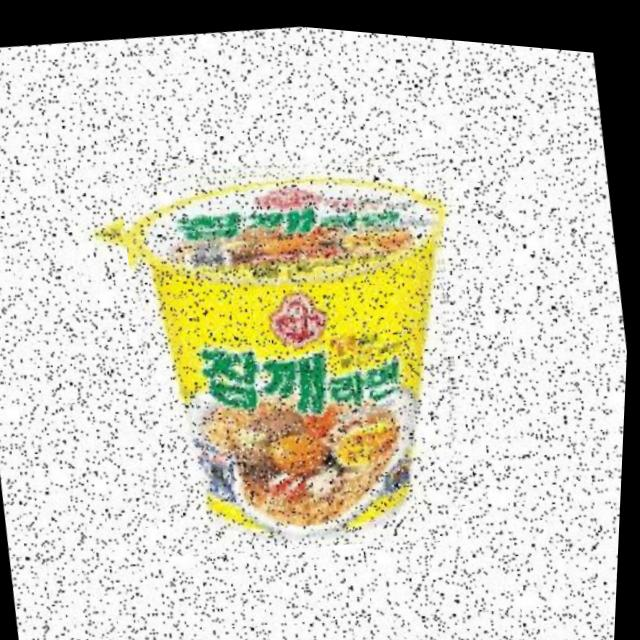Miscellaneous: (105, 118, 492, 574)
